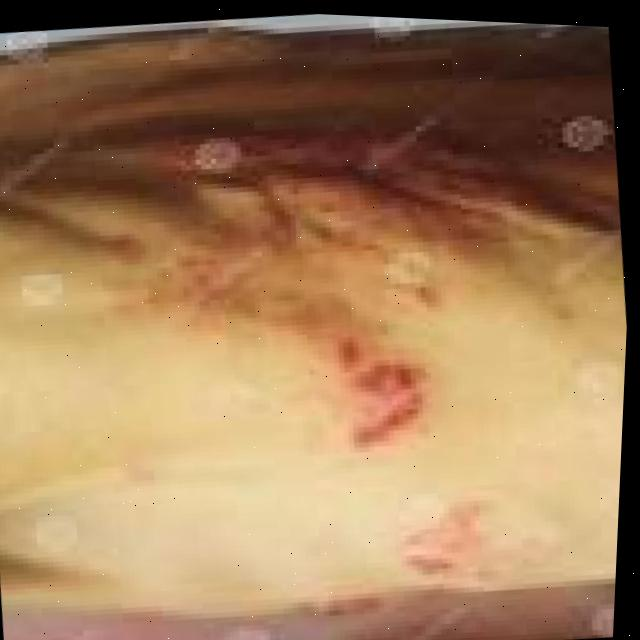Shingles: (152, 218, 447, 484), (386, 509, 472, 577)
